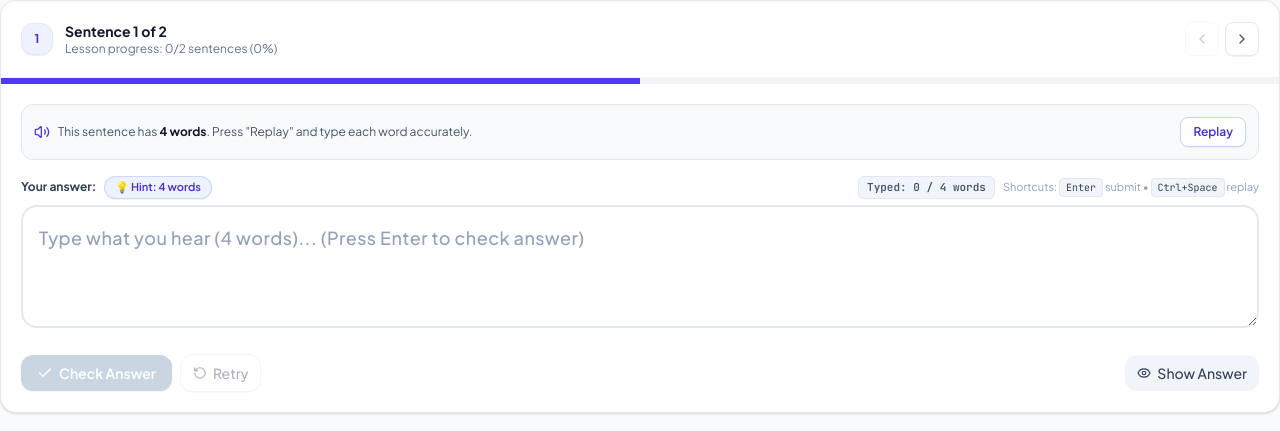
Scenario: User Requested Features Tests › 1. Word count suggestion and live typing indicator › suggests the exact word count of the current segment and shows live typed count
Expected: the text "💡 Hint: 4 words" is shown, [104,176,212,198]
Expected: the text "This sentence has" is shown, [58,124,160,139]
Type 2 words
Replace the text in the text box with placeholder "Type what you hear (4 words)" with "Stay hungry". click: (640, 266)
box: [21,204,1259,328]
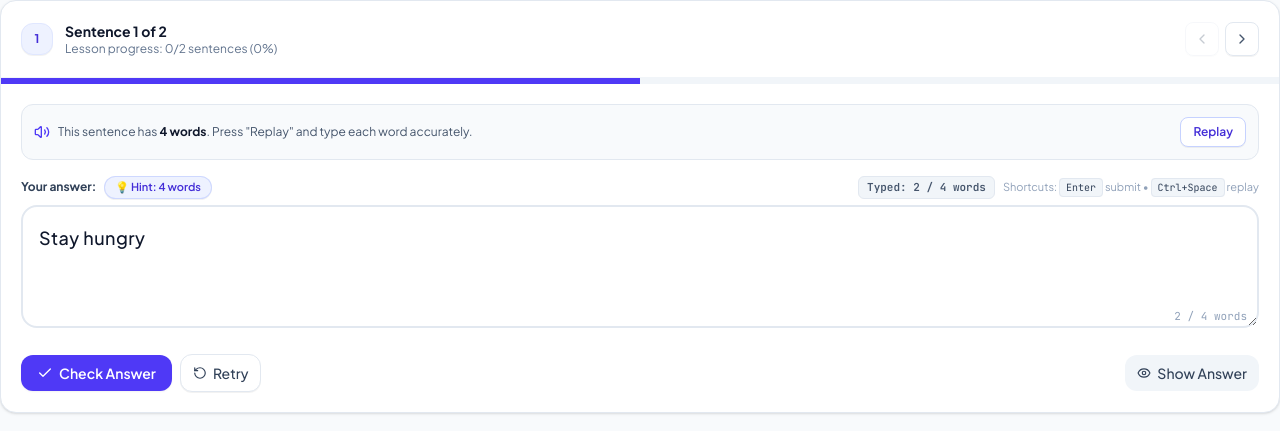
Expected: the text "Typed: 2 / 4 words" is shown, [858,176,995,198]
Type 4 words
Replace the text in the text box with placeholder "Type what you hear (4 words)" with "Stay hungry, stay foolish.". click: (640, 266)
box: [21,204,1259,328]
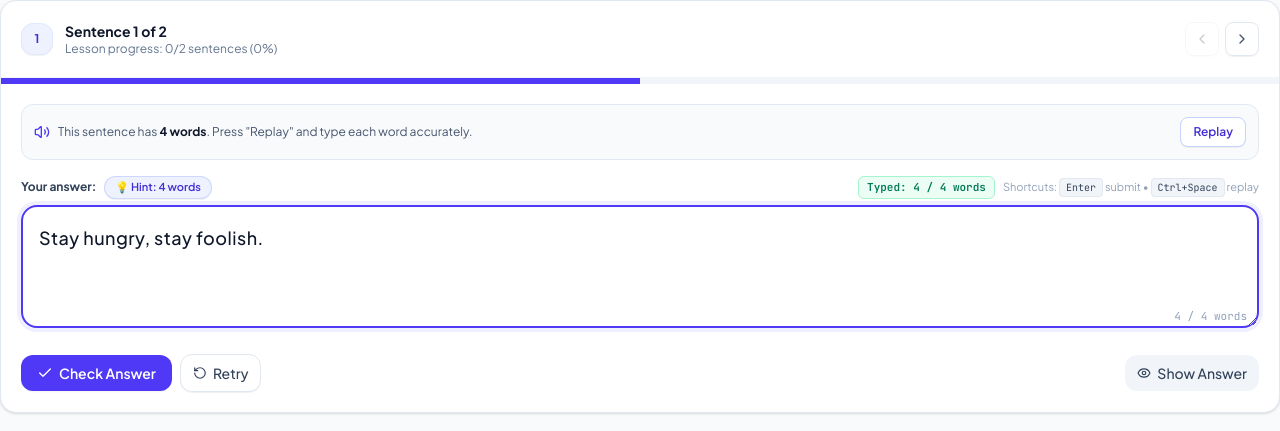
Expected: the text "Typed: 4 / 4 words" is shown, [858,176,995,198]
